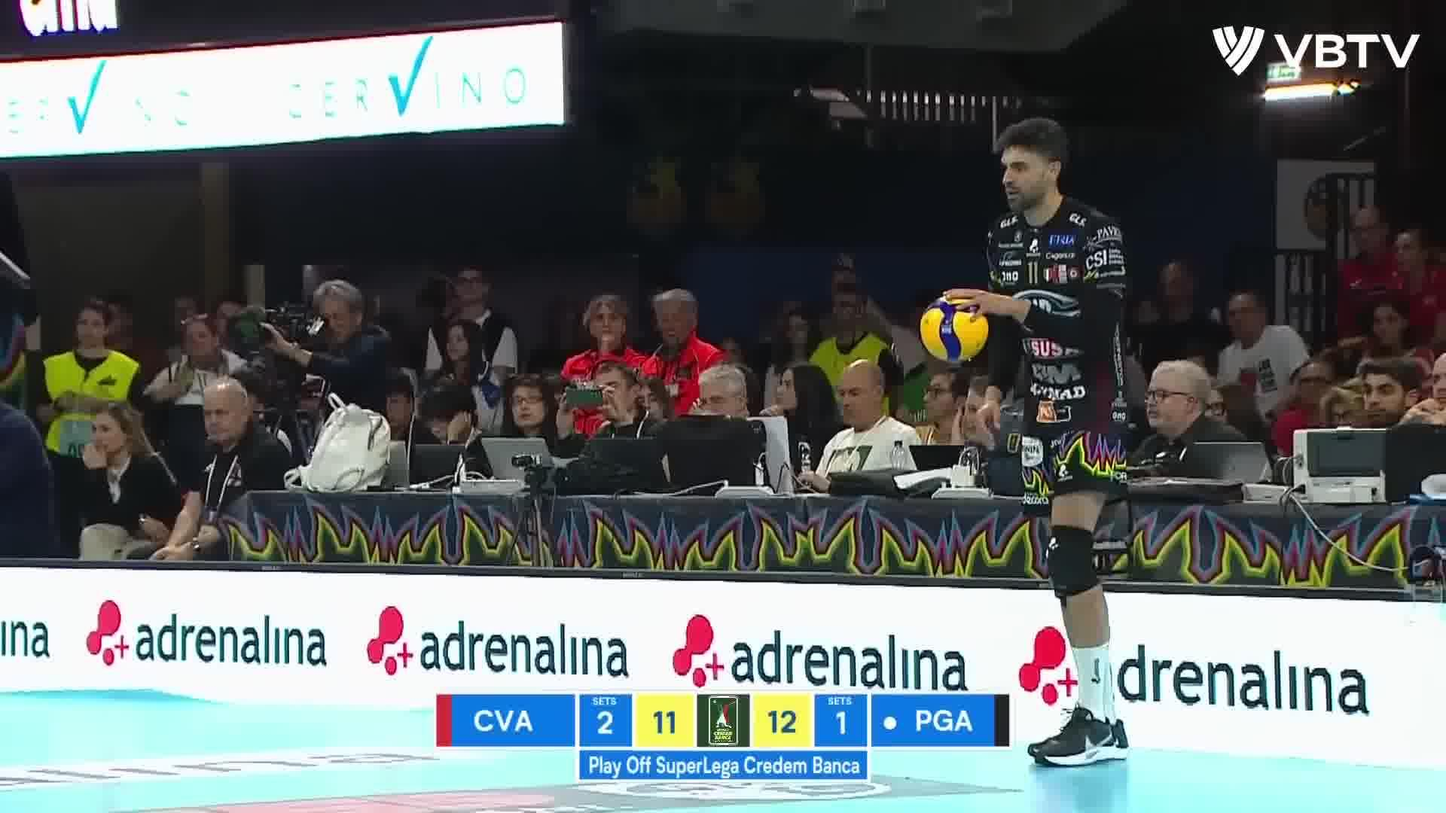balls: (917, 288, 996, 370)
